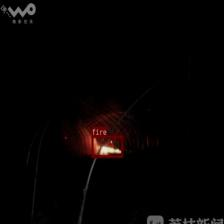fire: (92, 135, 122, 157)
